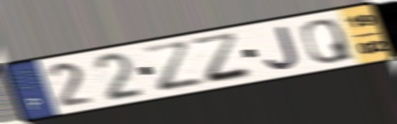2: (93, 51, 147, 103), (47, 61, 96, 109)
J: (263, 23, 302, 72)
Q: (300, 17, 357, 65)
Z: (139, 39, 209, 95), (189, 30, 257, 86)
